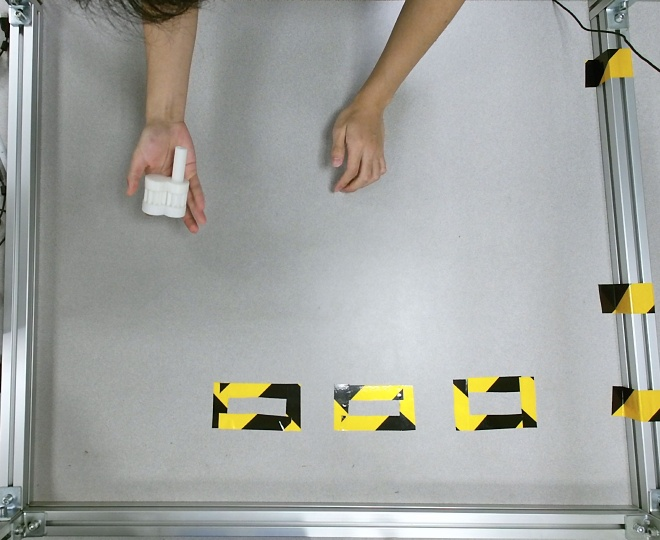stage_4: (140, 146, 189, 219)
